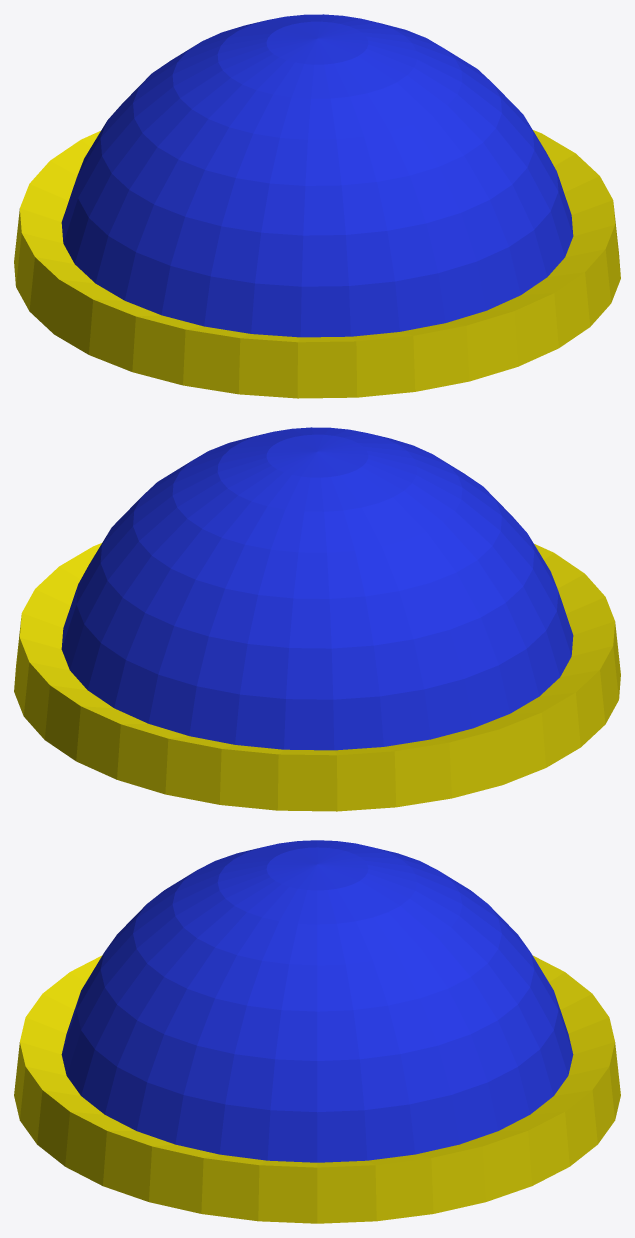
The model's file is Light_Bulb.fbx.
3 renders of one model, top to bottom at view 1: azimuth 30°, elevation 25°; view 2: azimuth 150°, elevation 25°; view 3: azimuth 270°, elevation 25°, orthographic.
Visible parts, largest first — view 1: light_bulb; view 2: light_bulb; view 3: light_bulb.
Part boxes in pixels (x1,y1,x2,y2): light_bulb: (14,14,620,398); light_bulb: (14,427,620,811); light_bulb: (14,840,620,1223).
Size of the model in its own units: 2.79 by 1.17 by 2.79.
